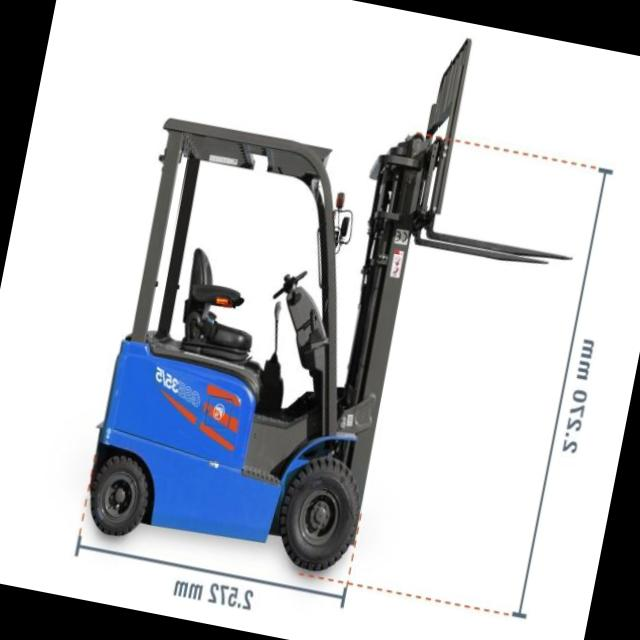forklift: (60, 94, 461, 597)
